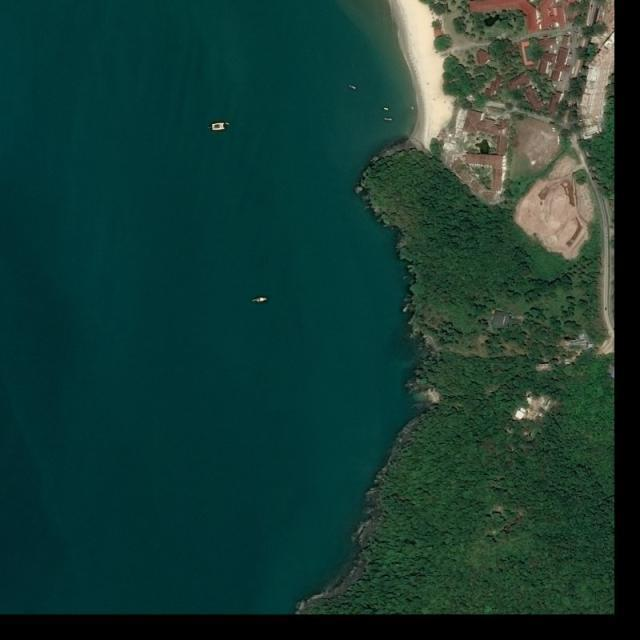ship: (210, 122, 224, 130), (254, 297, 267, 302), (349, 84, 358, 90), (384, 118, 393, 122), (383, 107, 390, 112)
